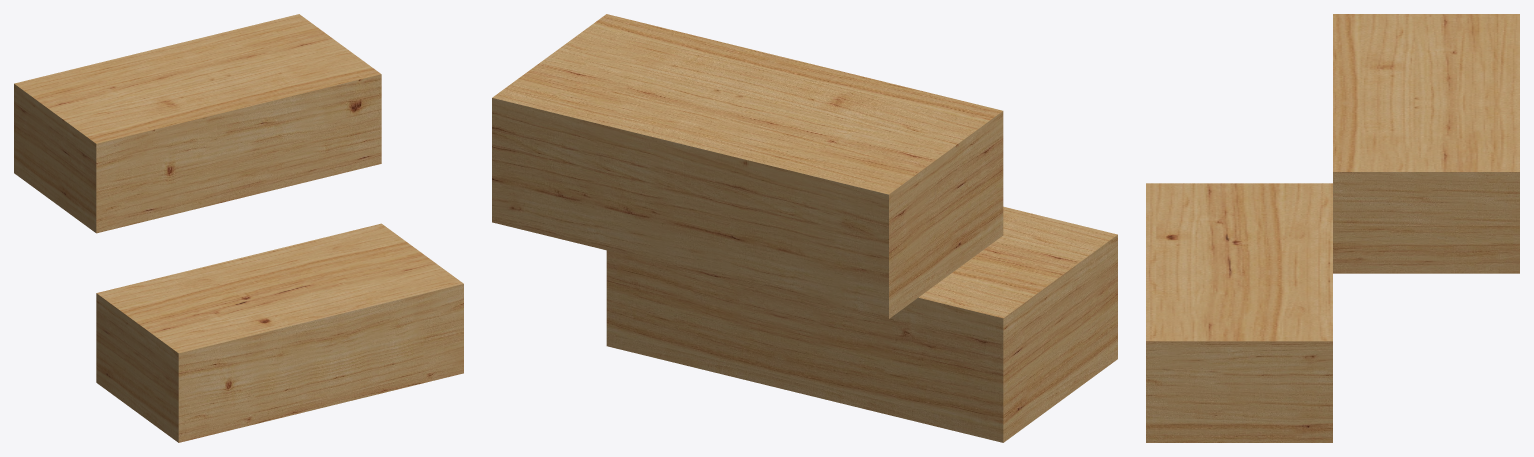
The model's file is stairsStone.dae.
3 views of the same model, side by side, from view 1: azimuth 30°, elevation 25°; view 2: azimuth 150°, elevation 25°; view 3: azimuth 270°, elevation 25° (orthographic). The views are drawn at different scales.
Parts seen in each view (by area): view 1: Cube; view 2: Cube; view 3: Cube.
Boxes of the visible parts, x1,y1,x2,y2 form: Cube: [14, 14, 463, 442]; Cube: [492, 14, 1117, 442]; Cube: [1146, 14, 1519, 442].
Bounding box in the file's own units: 1 × 1 × 0.8.
Materials: 1 (1 with a texture image).
